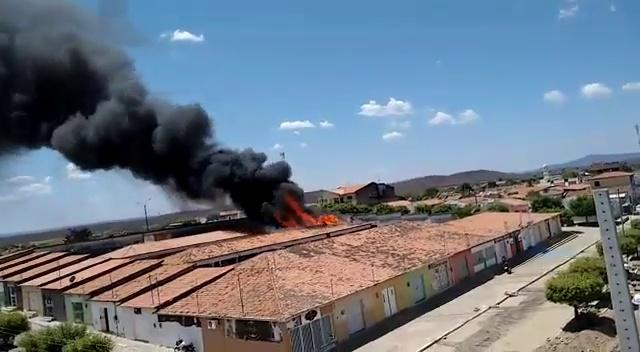Fire: (267, 187, 351, 227)
Smoke: (0, 2, 322, 234)
